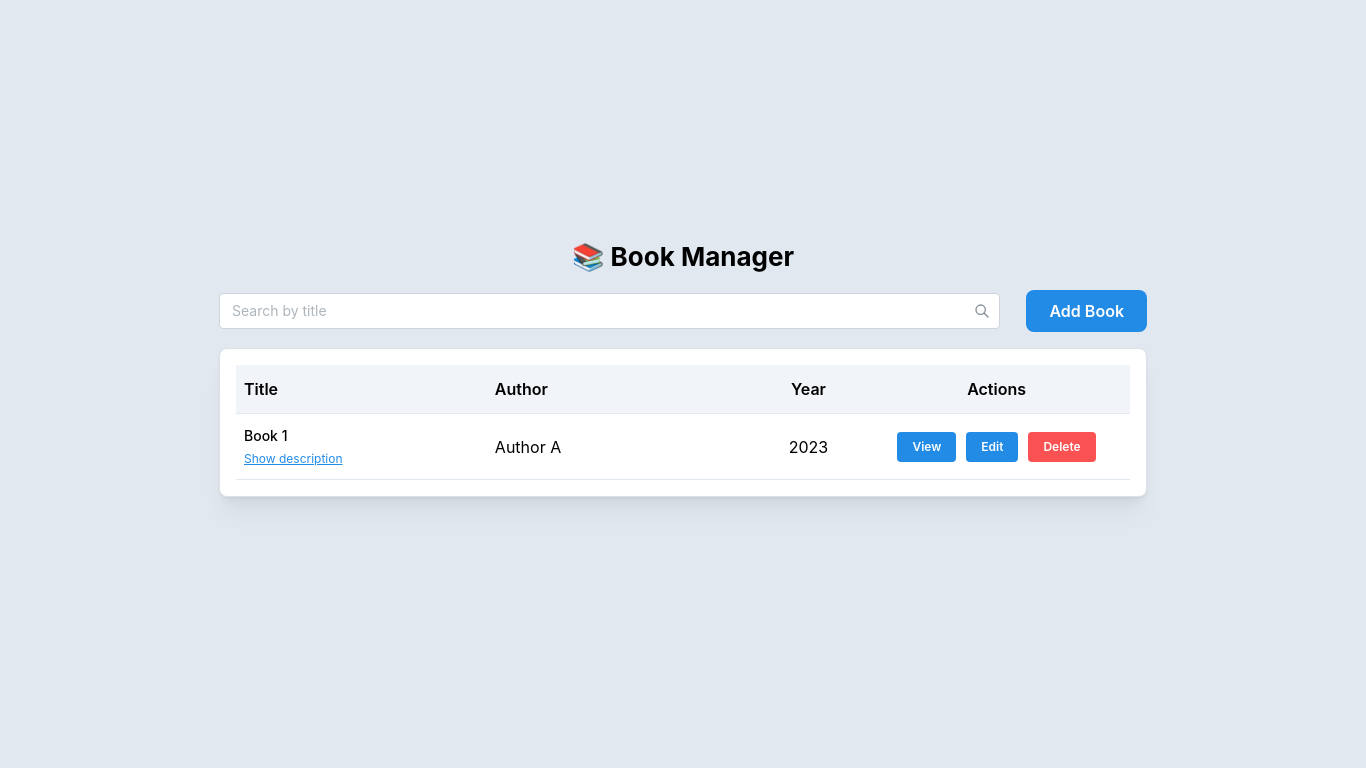
Test: BookManager integration › renders books and handles view button click
Expected: the text "Book 1" is shown, [244,427,288,444]
Click the button "View" at (927, 447), box [898,432,956,462]
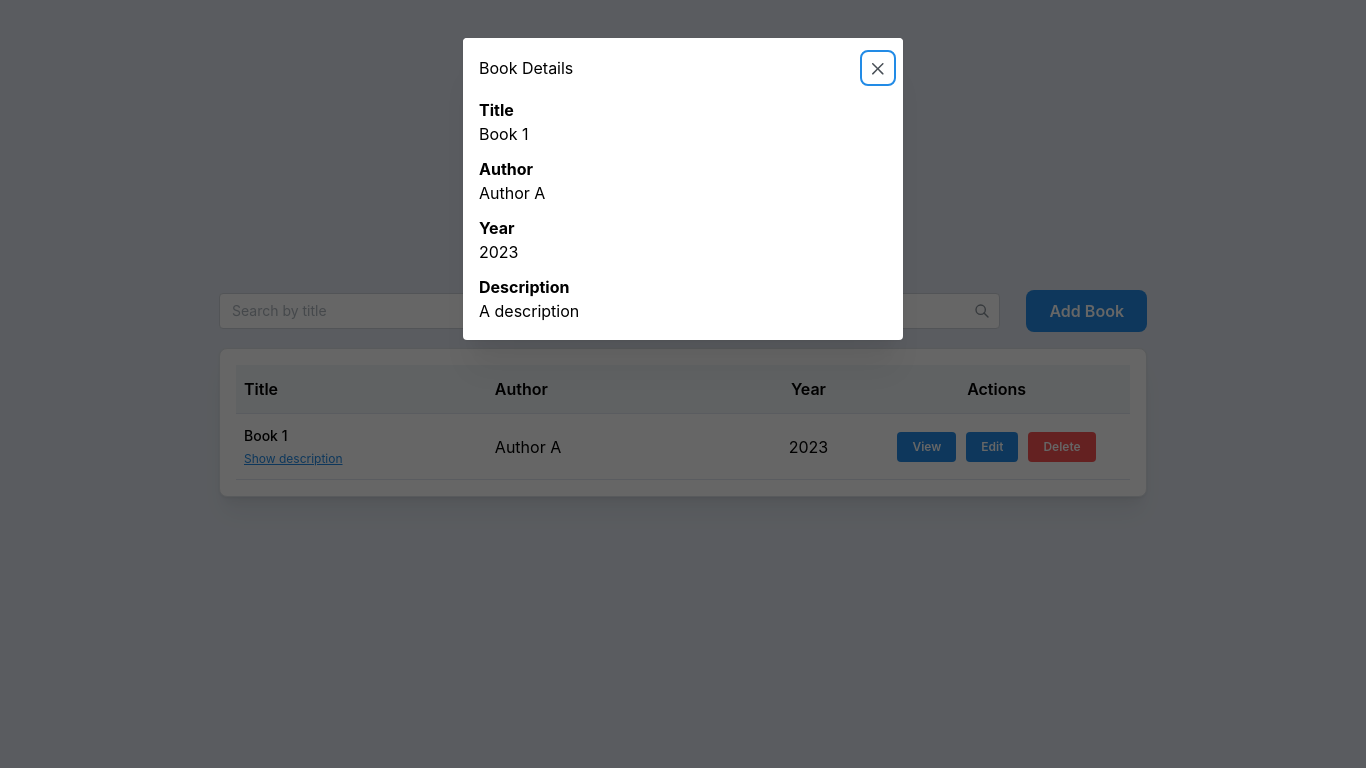
Expected: the heading "Book Details" is shown, [479,60,573,76]
